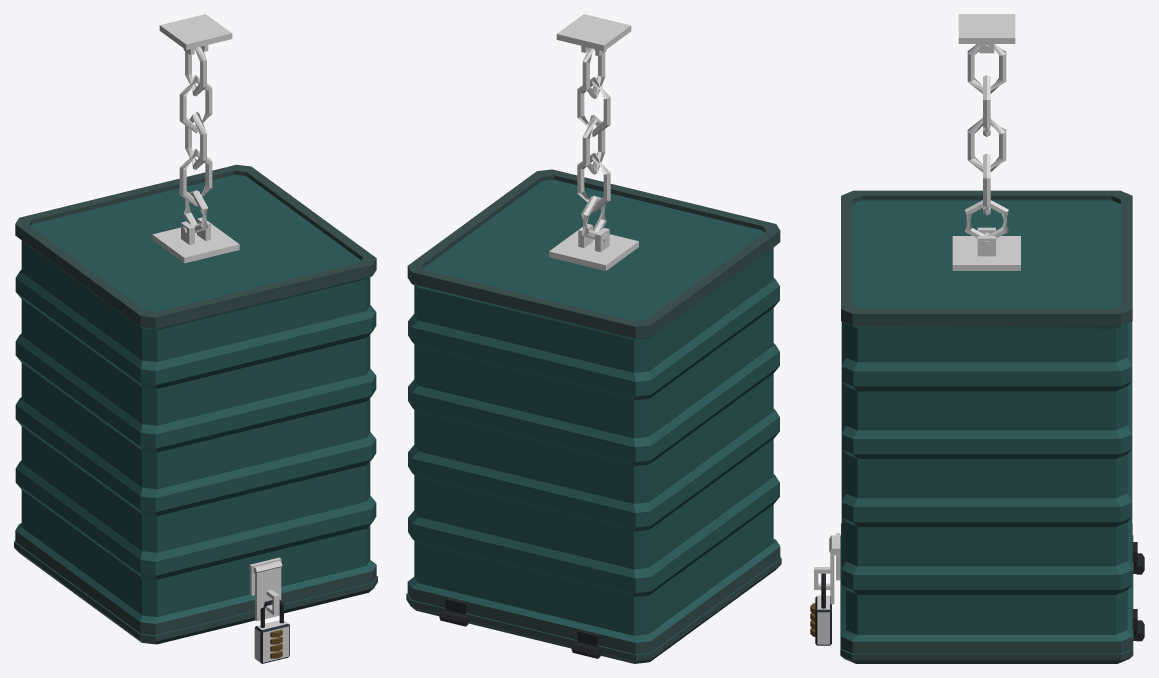
The model's file is Hanging_RectTinCan.fbx.
3 renders of one model, left to right at view 1: azimuth 30°, elevation 25°; view 2: azimuth 150°, elevation 25°; view 3: azimuth 270°, elevation 25°, orthographic. The views are drawn at different scales.
Parts seen in each view (by area): view 1: RectCan_Body, Ceiling_Mount, Bottom_Lid, Latch_Hasp, Combination_Padlock; view 2: RectCan_Body, Ceiling_Mount, Bottom_Lid; view 3: RectCan_Body, Ceiling_Mount, Bottom_Lid, Combination_Padlock, Latch_Hasp.
Boxes of the visible parts, left/top/right/bottom form: RectCan_Body: left=15, top=164, right=376, bottom=635; Ceiling_Mount: left=152, top=14, right=239, bottom=263; Bottom_Lid: left=14, top=540, right=377, bottom=644; Latch_Hasp: left=249, top=557, right=282, bottom=620; Combination_Padlock: left=254, top=599, right=289, bottom=663; RectCan_Body: left=407, top=169, right=780, bottom=654; Ceiling_Mount: left=549, top=14, right=638, bottom=270; Bottom_Lid: left=406, top=557, right=781, bottom=663; RectCan_Body: left=841, top=190, right=1137, bottom=653; Ceiling_Mount: left=952, top=14, right=1020, bottom=270; Bottom_Lid: left=840, top=535, right=1144, bottom=663; Combination_Padlock: left=810, top=573, right=831, bottom=645; Latch_Hasp: left=814, top=533, right=840, bottom=604.
Bounding box in the file's own units: 0.352 × 0.812 × 0.4015.
